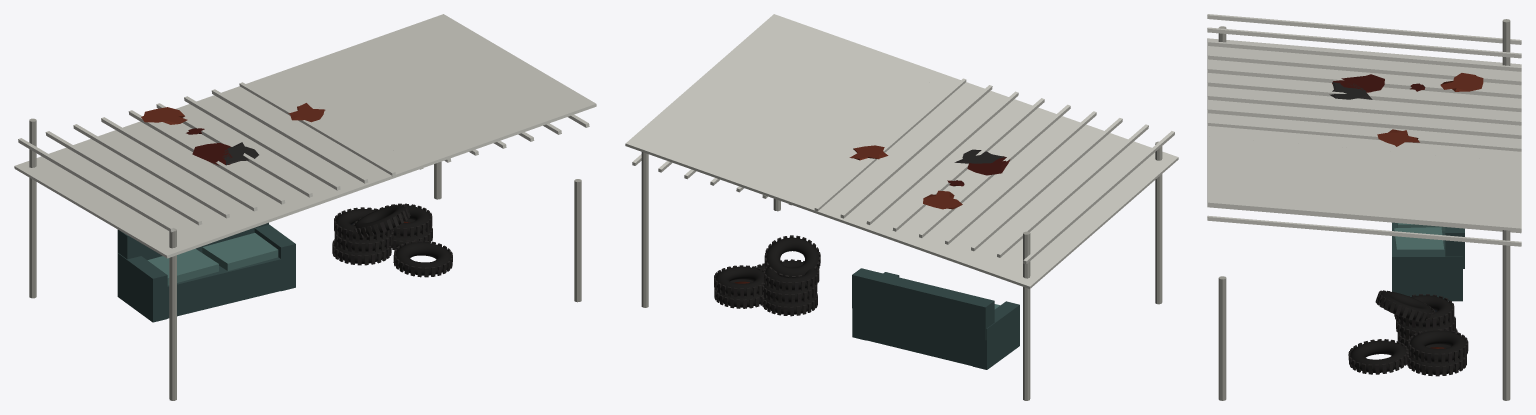
Rendered from trailer_carport.glb.
The picture shows the model from 3 angles, left to right: view 1: azimuth 30°, elevation 25°; view 2: azimuth 150°, elevation 25°; view 3: azimuth 270°, elevation 25°; orthographic projection. The views are drawn at different scales.
Parts seen in each view (by area): view 1: trailer_carport; view 2: trailer_carport; view 3: trailer_carport.
Boxes of the visible parts, box(x1,y1,x2,y2) form: trailer_carport: box(14, 14, 596, 400); trailer_carport: box(625, 14, 1178, 400); trailer_carport: box(1207, 14, 1521, 400).
Bounding box in the file's own units: 6.41 × 2.87 × 3.99.
